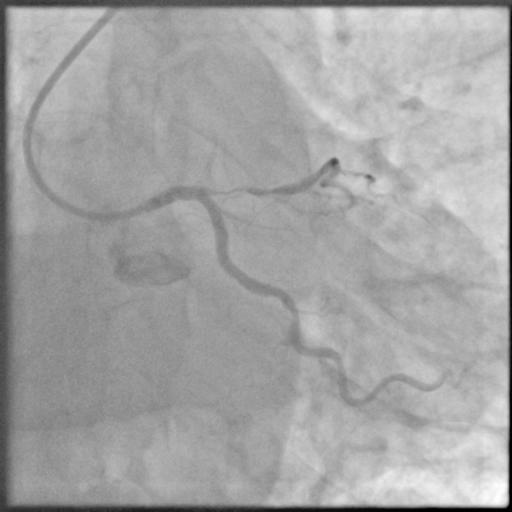Stenosis: (202, 181, 252, 200)
